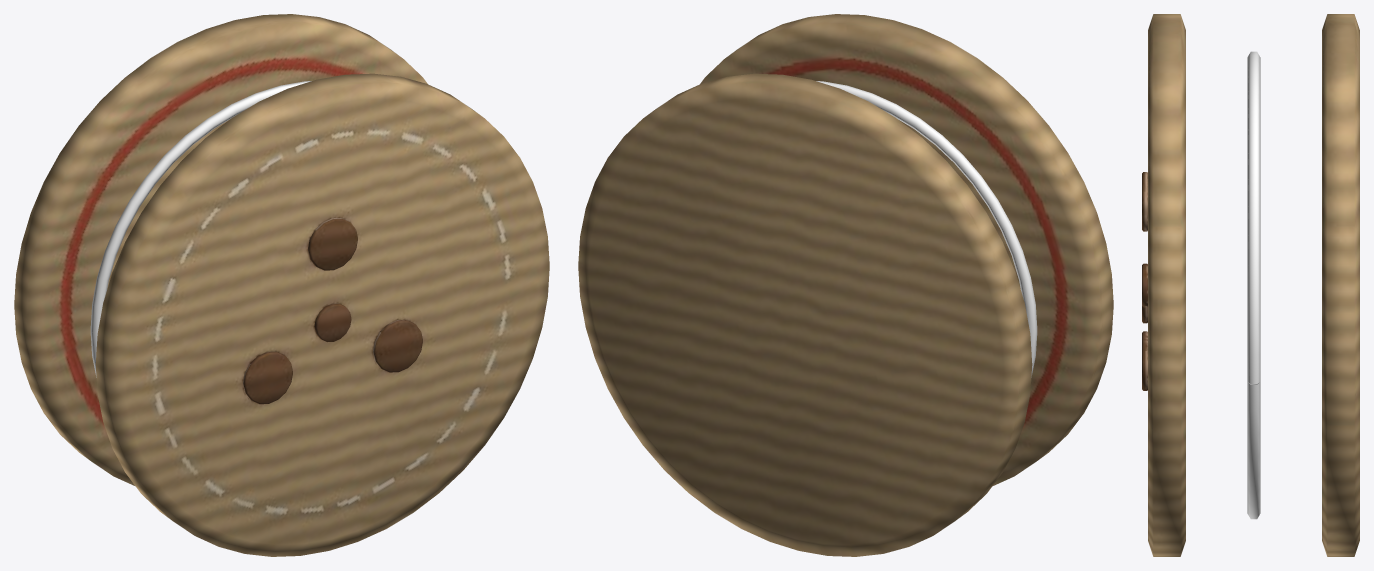
The model's file is hud_bobbin.glb.
3 views of the same model, side by side, from view 1: azimuth 30°, elevation 25°; view 2: azimuth 150°, elevation 25°; view 3: azimuth 270°, elevation 25° (orthographic). The views are drawn at different scales.
Visible parts, largest first — view 1: prop_hud_bobbin_wood, hud_bobbin_thread_bobbin.001; view 2: prop_hud_bobbin_wood, hud_bobbin_thread_bobbin.001; view 3: prop_hud_bobbin_wood, hud_bobbin_thread_bobbin.001.
Part boxes in pixels (x1,y1,x2,y2): prop_hud_bobbin_wood: (14, 14, 549, 556); hud_bobbin_thread_bobbin.001: (90, 81, 311, 377); prop_hud_bobbin_wood: (578, 14, 1113, 556); hud_bobbin_thread_bobbin.001: (816, 81, 1037, 377); prop_hud_bobbin_wood: (1142, 14, 1359, 556); hud_bobbin_thread_bobbin.001: (1247, 51, 1260, 519).
Size of the model in its own units: 1 by 1 by 0.401.
Materials: 3 (2 with a texture image).
